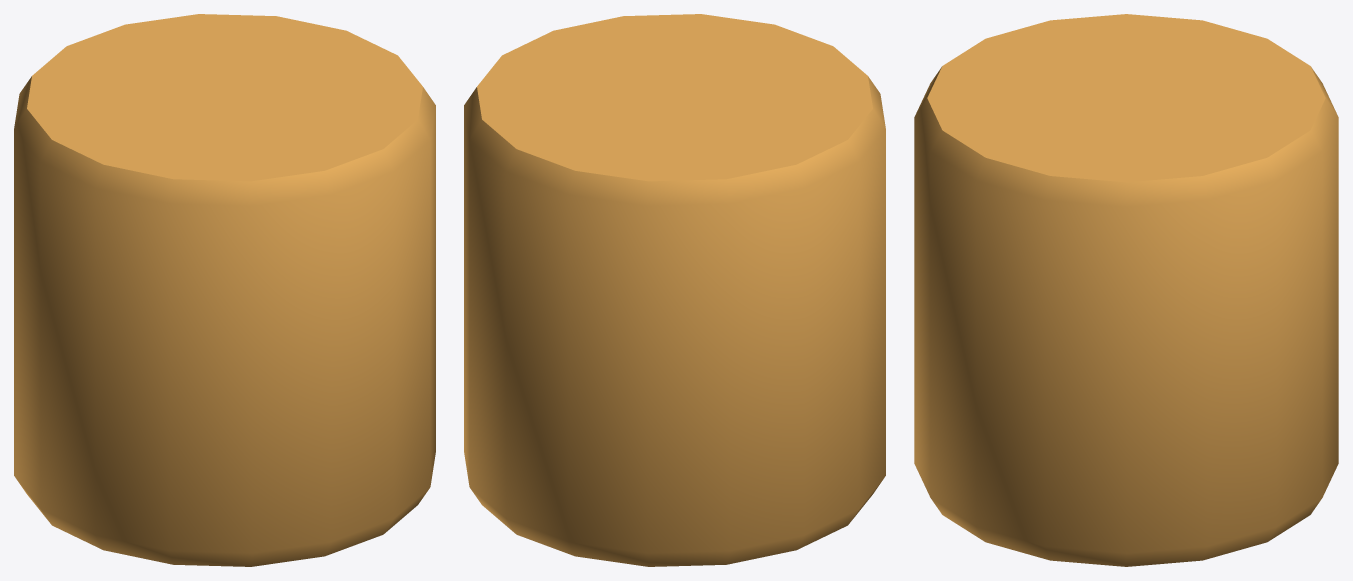
The picture shows the model from 3 angles, left to right: view 1: azimuth 30°, elevation 25°; view 2: azimuth 150°, elevation 25°; view 3: azimuth 270°, elevation 25°; orthographic projection.
Visible parts, largest first — view 1: Cylinder_01; view 2: Cylinder_01; view 3: Cylinder_01.
Boxes of the visible parts, x1,y1,x2,y2 form: Cylinder_01: (14, 14, 435, 566); Cylinder_01: (464, 14, 885, 566); Cylinder_01: (914, 14, 1338, 566).
Size of the model in its own units: 320 by 320 by 320.
